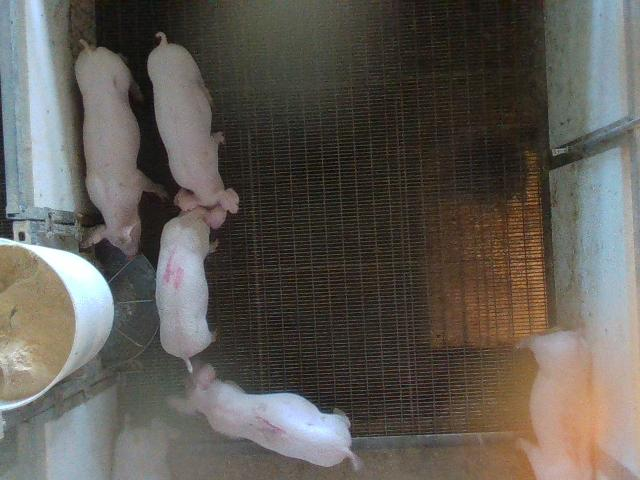pig-1: (170, 365, 360, 469)
pig-3: (520, 331, 592, 479)
pig-4: (155, 189, 228, 372)
